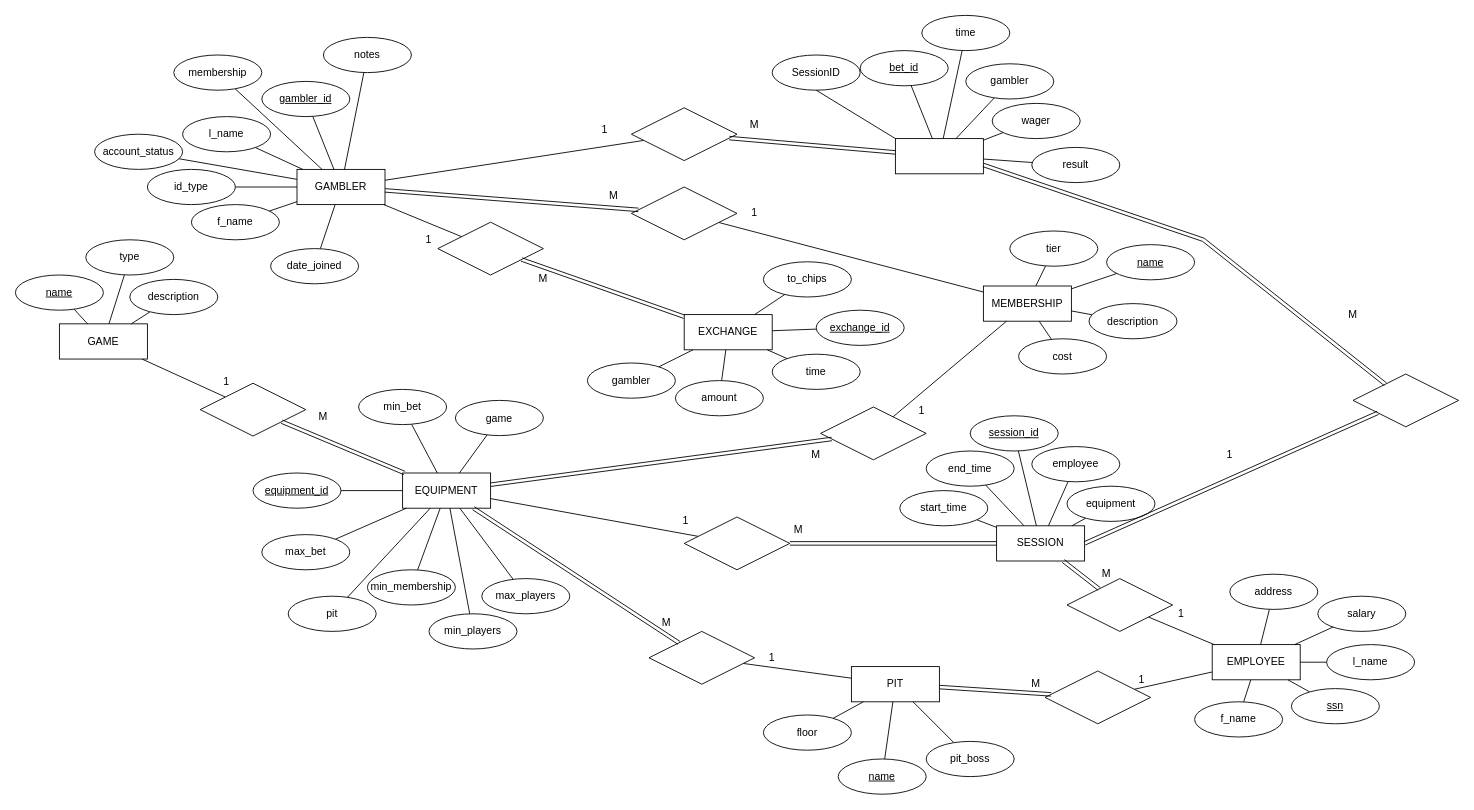
Some shapes in this 1474 by 810 pixel diagram are drawn without their labels. The shapes that lost their labels are listed below. From the top down, each one's box as (x1, y1, x2, y2) in pixels, then its label:
(631, 107, 737, 161): Makes
(895, 138, 983, 174): BET
(631, 186, 737, 240): Has
(437, 221, 543, 275): Does
(199, 382, 306, 436): Is played
(1352, 373, 1459, 427): Is In
(820, 406, 926, 460): Requires
(683, 516, 790, 570): Is used
(1066, 578, 1173, 631): Operated by
(648, 631, 755, 684): Is located
(1044, 670, 1151, 724): Is managed
